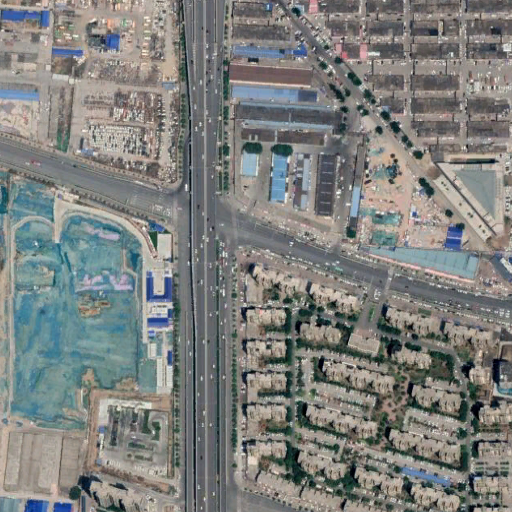cw: (1, 169, 162, 430)
